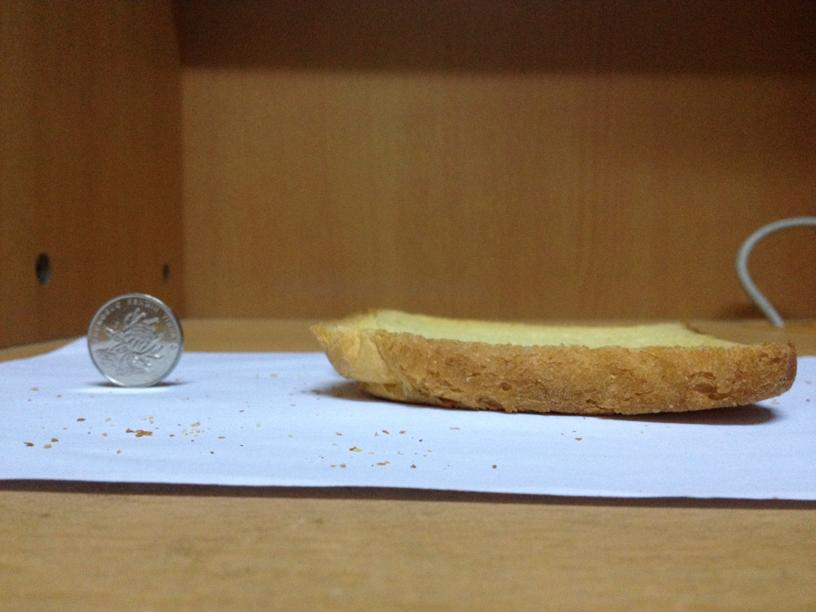bread: (317, 303, 795, 418)
coin: (84, 289, 186, 387)
